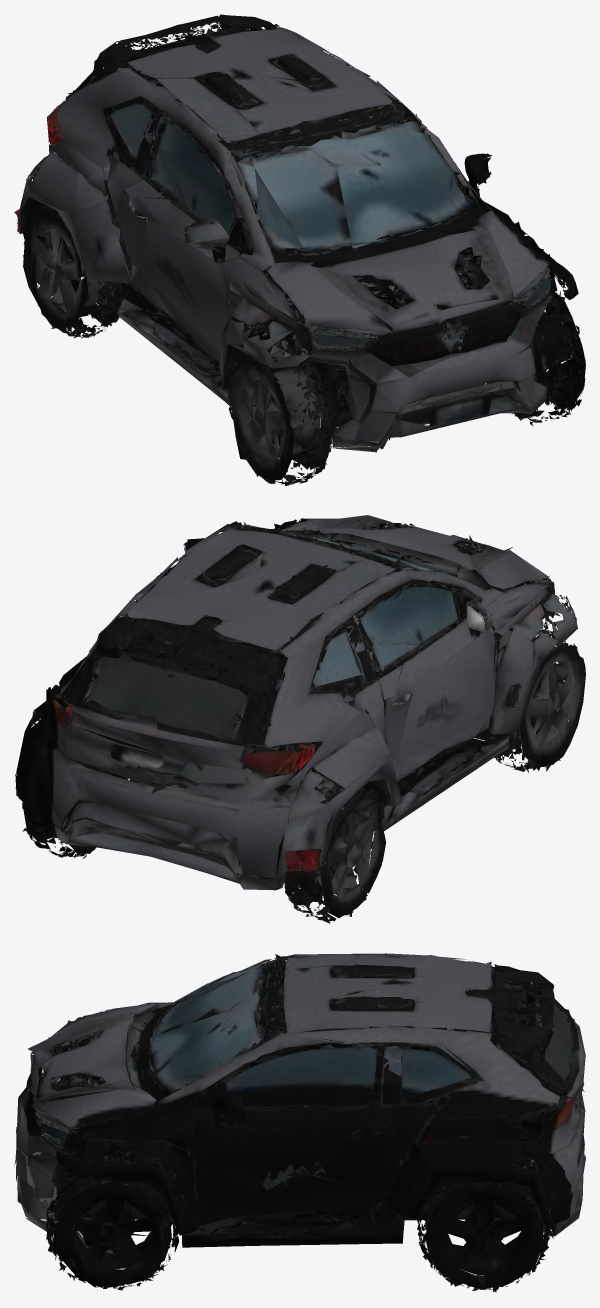
The model's file is preview.glb.
The picture shows the model from 3 angles, top to bottom: view 1: azimuth 30°, elevation 25°; view 2: azimuth 150°, elevation 25°; view 3: azimuth 270°, elevation 25°; orthographic projection. The views are drawn at different scales.
Parts seen in each view (by area): view 1: SM_SM_AI_hatch; view 2: SM_SM_AI_hatch; view 3: SM_SM_AI_hatch.
Part boxes in pixels (x1,y1,x2,y2): SM_SM_AI_hatch: (14, 14, 585, 486); SM_SM_AI_hatch: (15, 515, 585, 923); SM_SM_AI_hatch: (14, 953, 585, 1292).
Bounding box in the file's own units: 2.37 × 1.94 × 4.01.
1 material, 1 textured.
